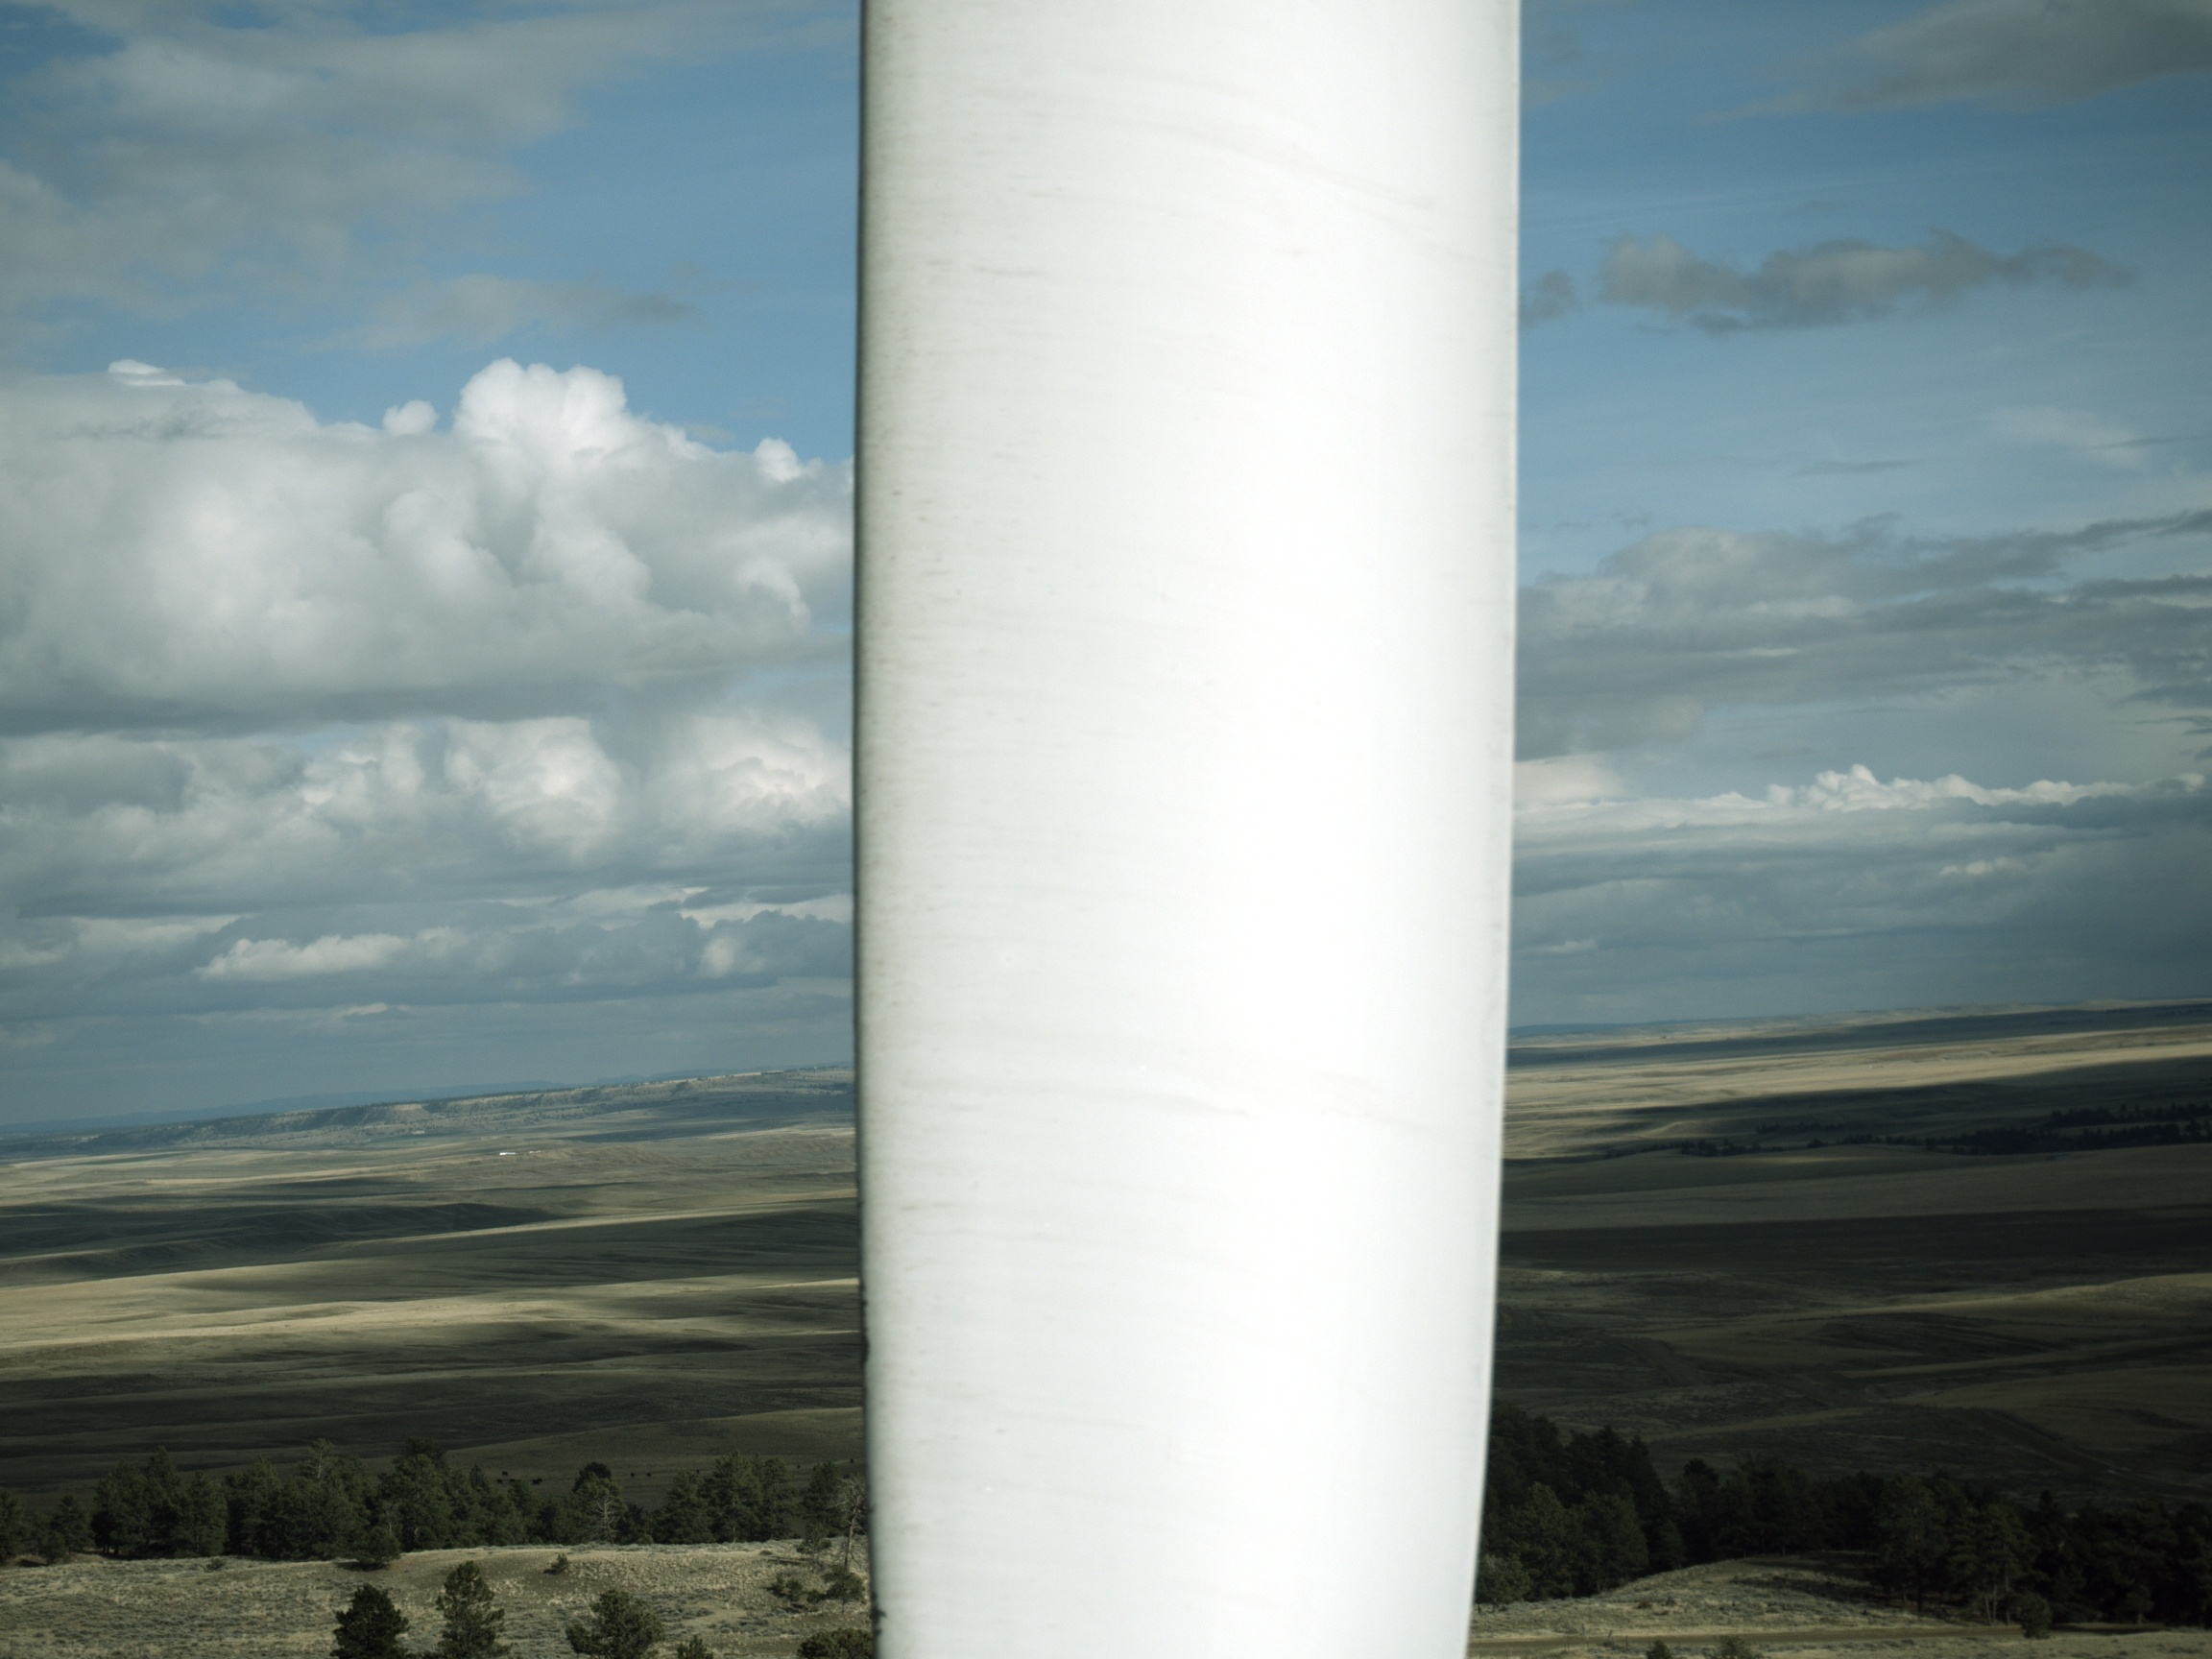chip: (862, 1333, 871, 1364), (873, 1605, 887, 1624), (859, 1281, 867, 1295), (873, 1628, 883, 1638), (860, 1298, 869, 1307), (871, 1589, 878, 1600)
